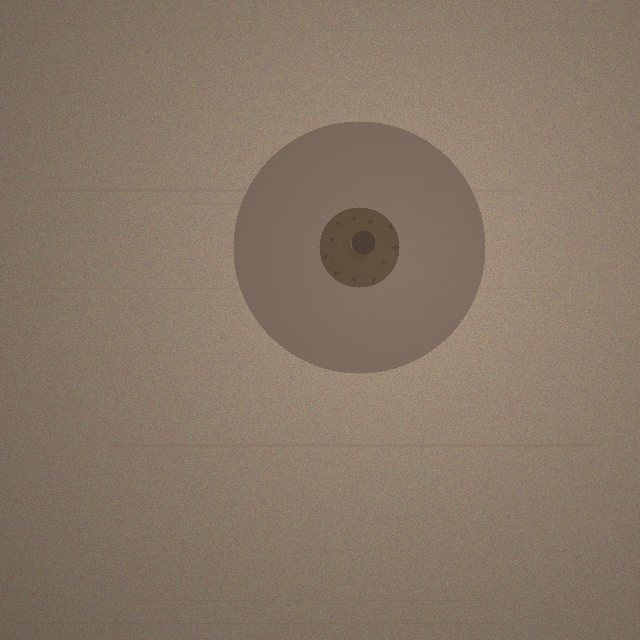cold_weld: (233, 121, 485, 373)
